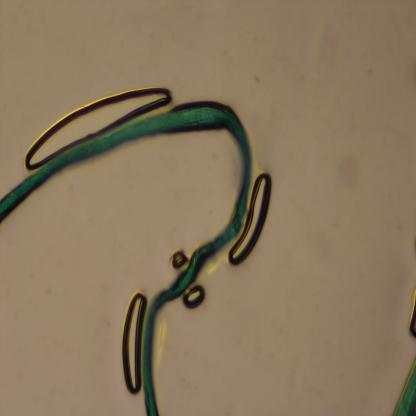Air bubble: (21, 80, 171, 173), (226, 170, 273, 266), (120, 287, 144, 397), (184, 285, 206, 312), (168, 249, 188, 268)
Background material: (397, 280, 416, 347)
Microfibre: (0, 103, 253, 415), (388, 350, 416, 415)
